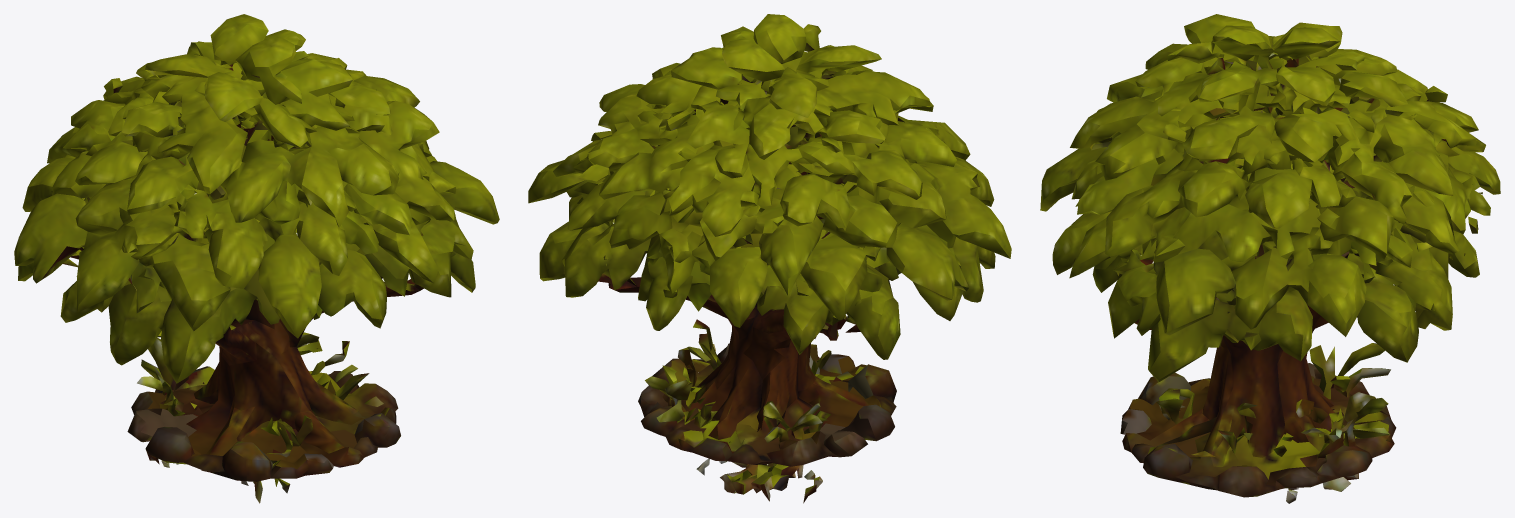
The model's file is Tree.glb.
3 views of the same model, side by side, from view 1: azimuth 30°, elevation 25°; view 2: azimuth 150°, elevation 25°; view 3: azimuth 270°, elevation 25° (orthographic). The views are drawn at different scales.
Bounding box in the file's own units: 1.98 × 1.98 × 1.79.
1 material, 1 textured.
